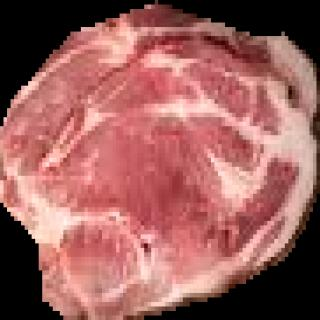pork: (0, 0, 320, 320)
